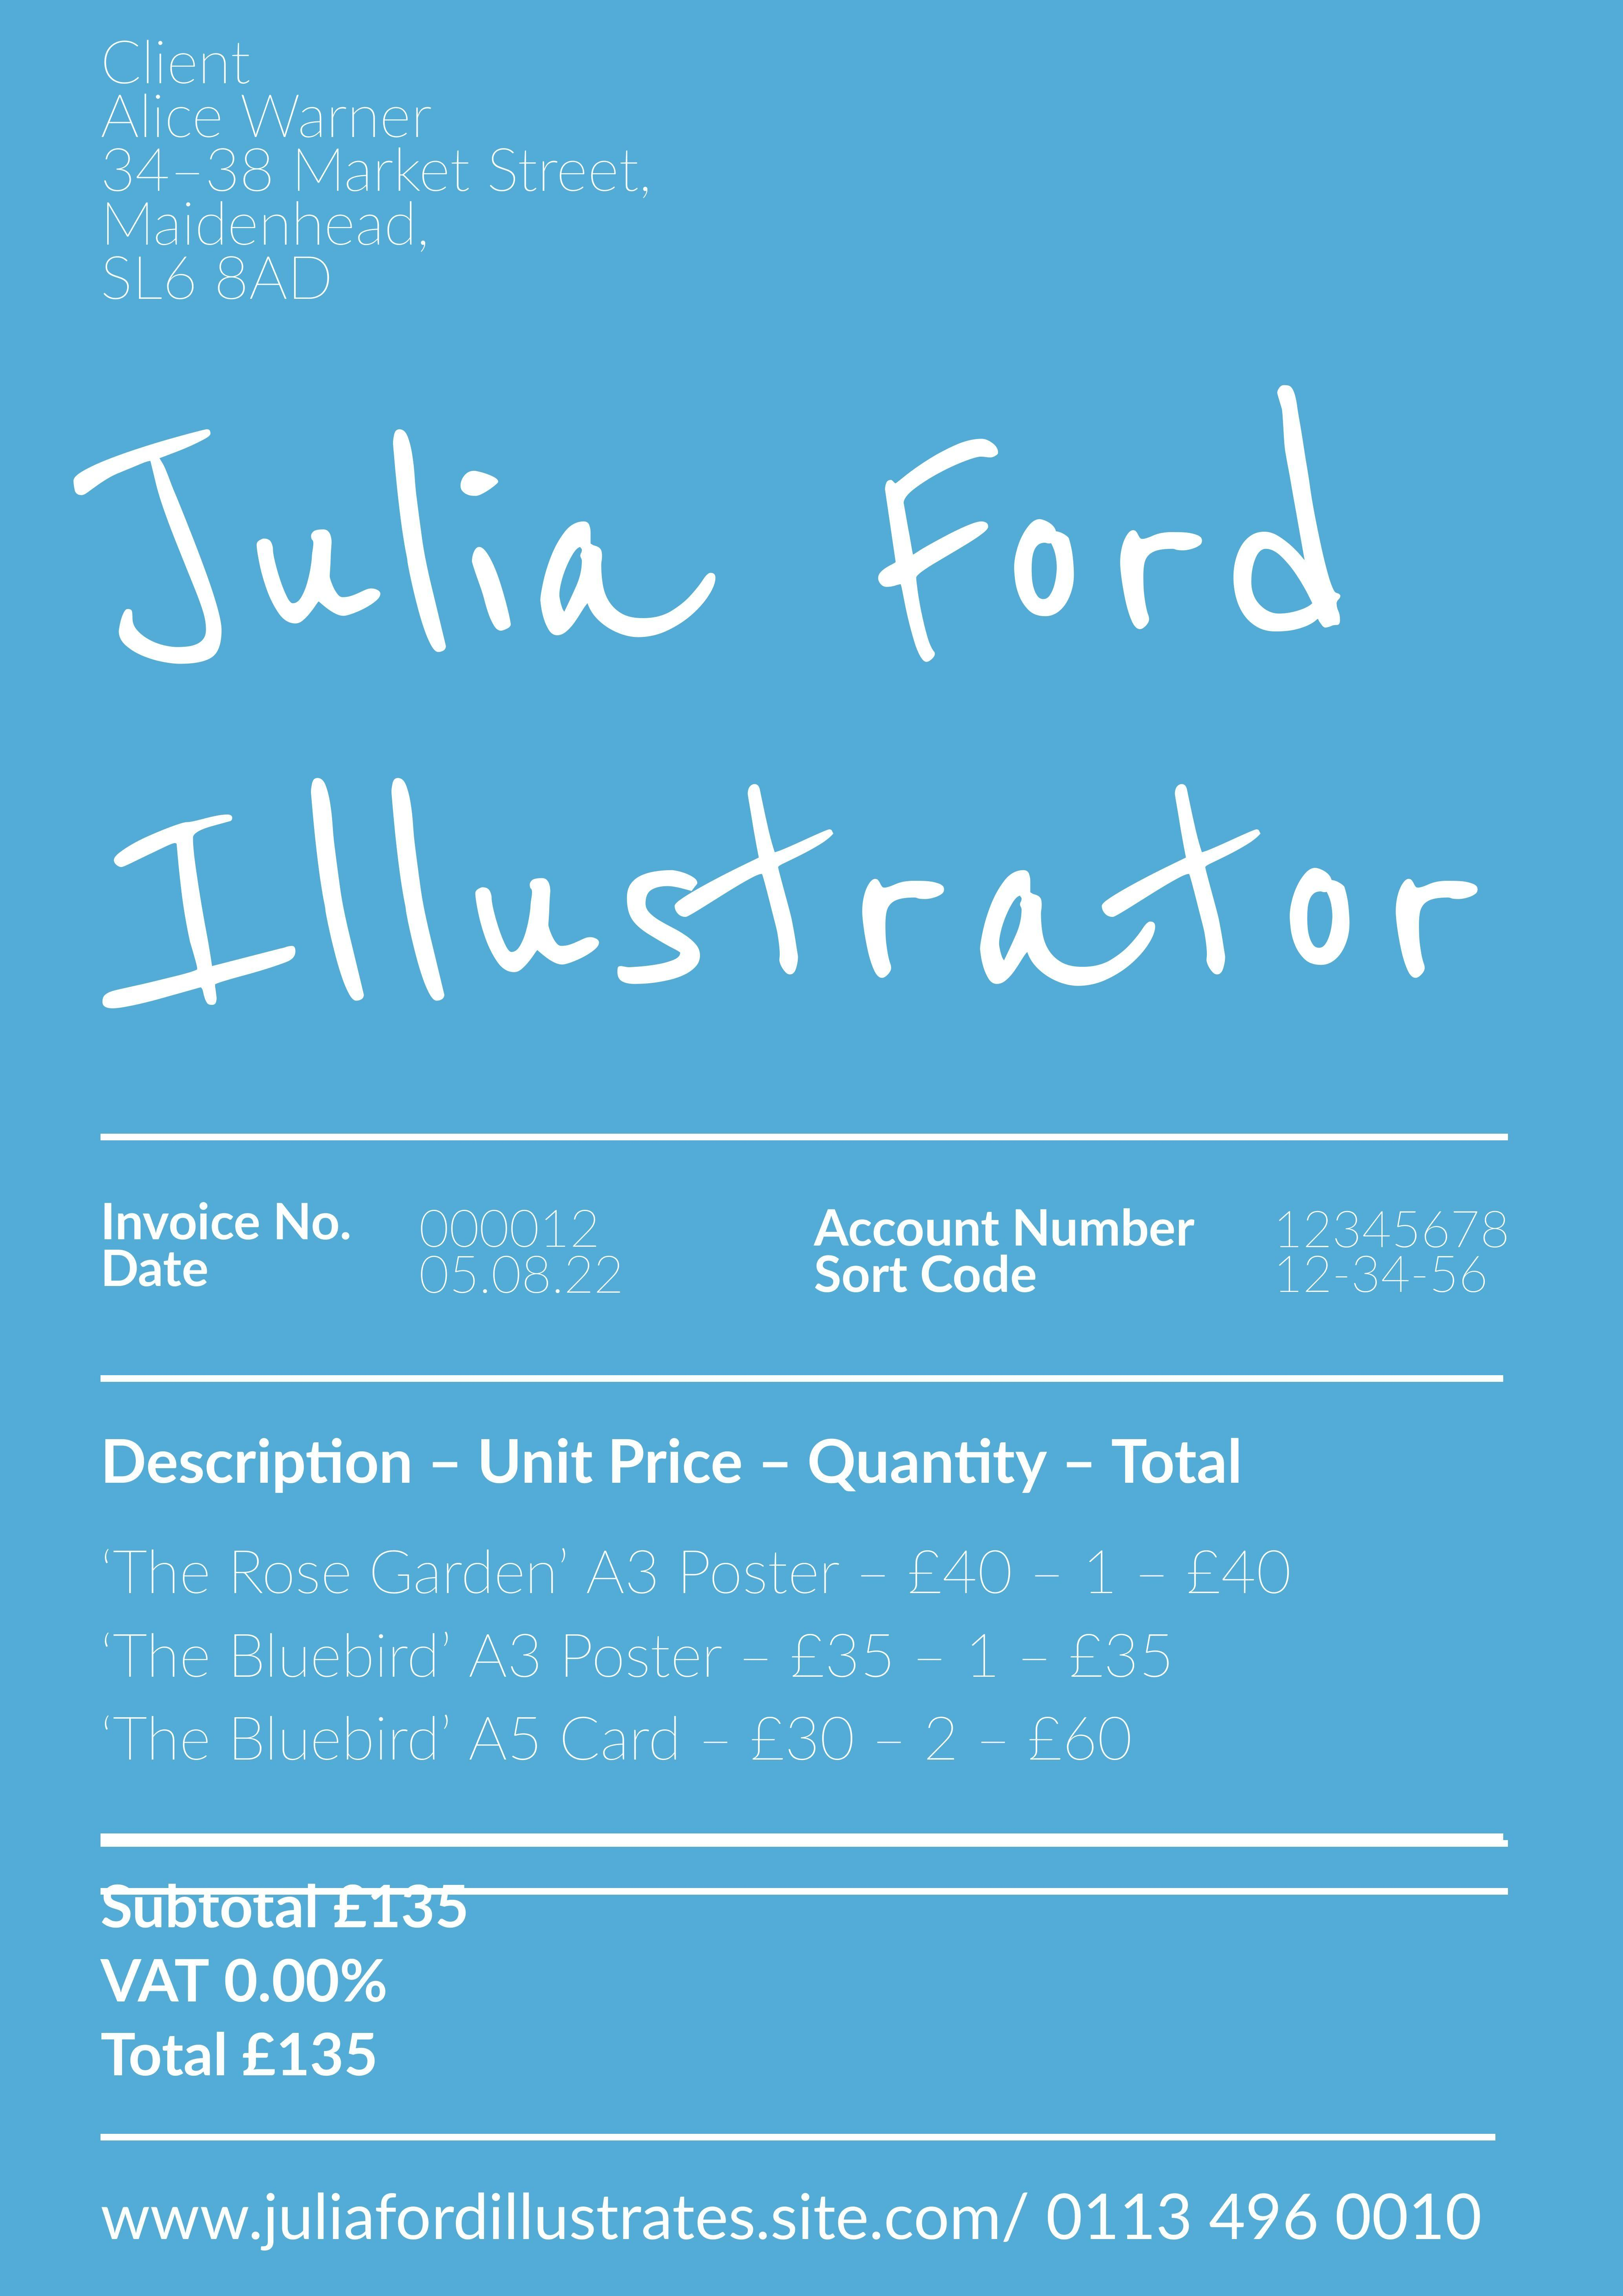ROI: (69, 350, 1511, 1084), (74, 1421, 1331, 1811), (74, 9, 696, 327), (783, 1186, 1528, 1332), (86, 1182, 682, 1346), (95, 1862, 480, 2112)
